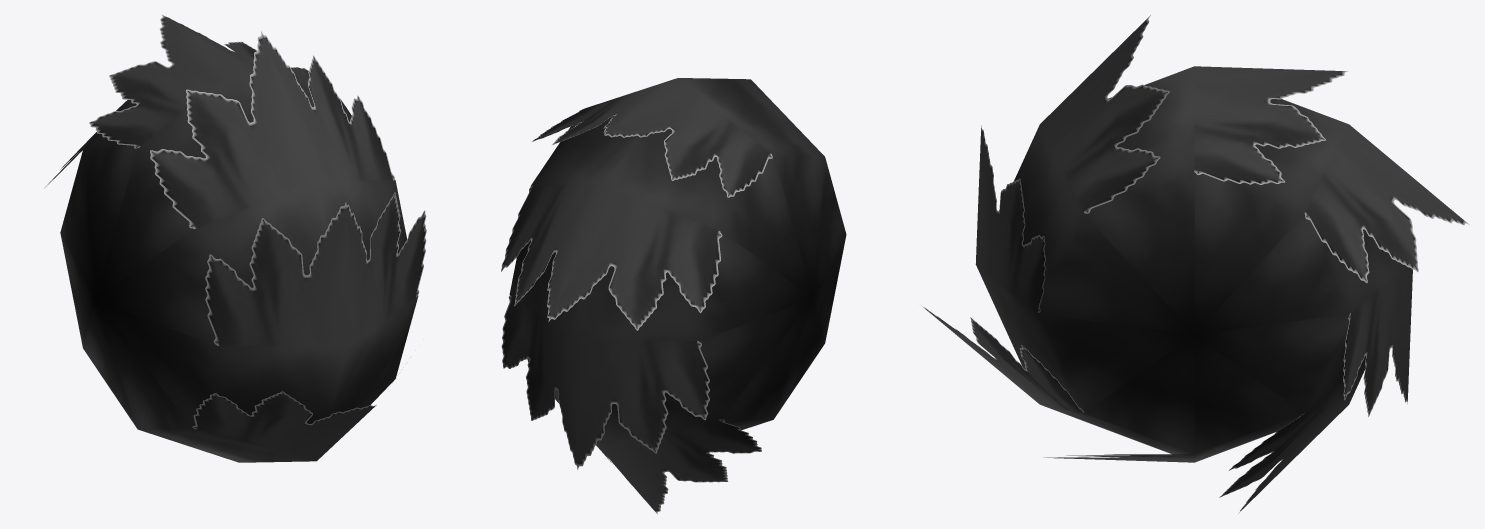
File: part_model_wolverball.glb
The picture shows the model from 3 angles, left to right: view 1: azimuth 30°, elevation 25°; view 2: azimuth 150°, elevation 25°; view 3: azimuth 270°, elevation 25°; orthographic projection. The views are drawn at different scales.
Visible parts, largest first — view 1: shadows.part_model_wolverball-Mesh[0]; view 2: shadows.part_model_wolverball-Mesh[0]; view 3: shadows.part_model_wolverball-Mesh[0].
Boxes of the visible parts, x1=… form: shadows.part_model_wolverball-Mesh[0]: x1=44, y1=14, x2=426, y2=462; shadows.part_model_wolverball-Mesh[0]: x1=501, y1=78, x2=846, y2=513; shadows.part_model_wolverball-Mesh[0]: x1=921, y1=15, x2=1469, y2=513.
Size of the model in its own units: 0.6345 by 1.06 by 1.06.
Materials: 1 (1 with a texture image).
